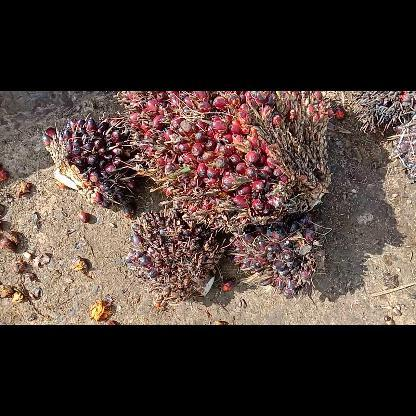TBS abnormal: (45, 116, 137, 209), (130, 214, 220, 300), (228, 226, 326, 300)
TBS masak: (125, 91, 329, 223)
